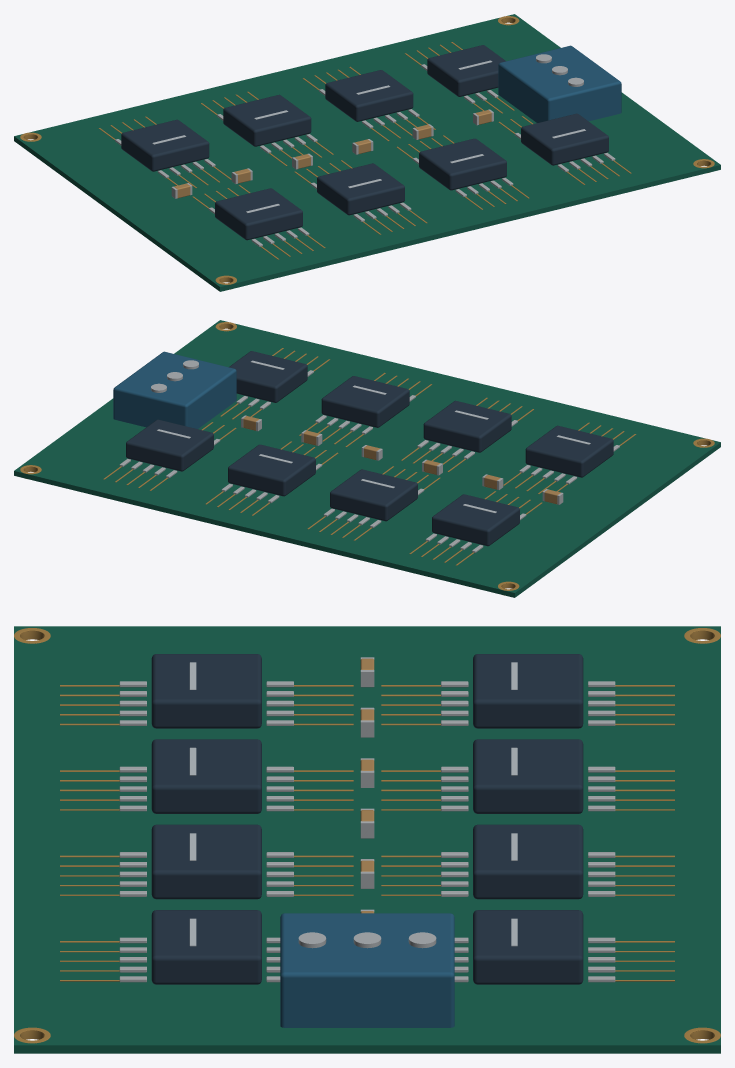
The model's file is pcb.glb.
3 views of the same model, one above another, from view 1: azimuth 30°, elevation 25°; view 2: azimuth 150°, elevation 25°; view 3: azimuth 270°, elevation 25° (orthographic). The views are drawn at different scales.
Visible parts, largest first — view 1: FR4Board, TerminalBody, IC_0_1, IC_0_0, IC_0_2, IC_1_0, IC_1_2, IC_1_3, IC_1_1, IC_0_3; view 2: FR4Board, TerminalBody, IC_1_0, IC_1_1, IC_1_2, IC_0_2, IC_0_0, IC_0_3, IC_0_1, IC_1_3; view 3: FR4Board, TerminalBody, IC_0_2, IC_1_2, IC_0_3, IC_0_0, IC_0_1, IC_1_3, IC_1_0, IC_1_1.
Part boxes in pixels (x1,y1,x2,y2): FR4Board: [14, 14, 720, 291]; TerminalBody: [498, 45, 621, 122]; IC_0_1: [223, 94, 311, 146]; IC_0_0: [121, 119, 209, 171]; IC_0_2: [325, 70, 413, 121]; IC_1_0: [215, 188, 302, 240]; IC_1_2: [419, 138, 506, 190]; IC_1_3: [521, 113, 608, 165]; IC_1_1: [317, 163, 404, 215]; IC_0_3: [427, 45, 505, 96]; FR4Board: [14, 320, 720, 597]; TerminalBody: [113, 351, 236, 428]; IC_1_0: [525, 425, 613, 477]; IC_1_1: [423, 400, 511, 452]; IC_1_2: [321, 376, 409, 427]; IC_0_2: [228, 444, 315, 496]; IC_0_0: [432, 494, 519, 546]; IC_0_3: [126, 419, 213, 471]; IC_0_1: [330, 469, 417, 521]; IC_1_3: [229, 351, 307, 402]; FR4Board: [14, 626, 720, 1053]; TerminalBody: [280, 913, 454, 1027]; IC_0_2: [473, 824, 583, 899]; IC_1_2: [151, 824, 261, 899]; IC_0_3: [473, 910, 583, 984]; IC_0_0: [473, 654, 583, 728]; IC_0_1: [473, 739, 583, 813]; IC_1_3: [151, 910, 261, 984]; IC_1_0: [151, 654, 261, 728]; IC_1_1: [151, 739, 261, 813].
Bounding box in the file's own units: 0.216 × 0.0162 × 0.154.
8 materials, 5 textured.
